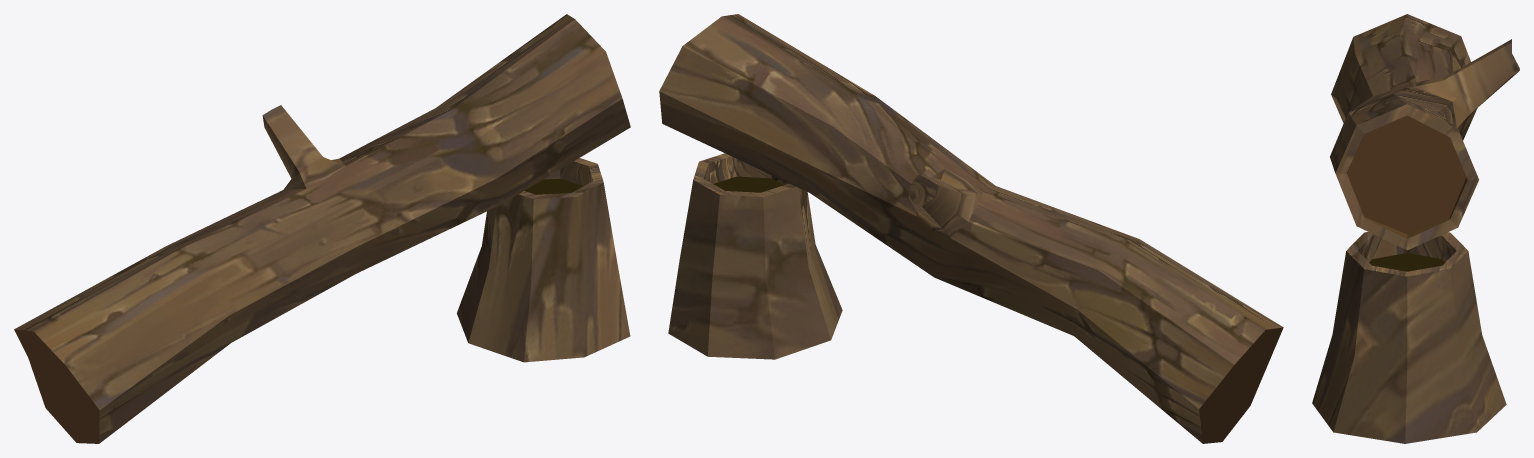
File: Tronco Apoiado.fbx
3 renders of one model, left to right at view 1: azimuth 30°, elevation 25°; view 2: azimuth 150°, elevation 25°; view 3: azimuth 270°, elevation 25°, orthographic. The views are drawn at different scales.
Parts seen in each view (by area): view 1: pCylinder3; view 2: pCylinder3; view 3: pCylinder3.
Boxes of the visible parts, left/top/right/bottom form: pCylinder3: left=14, top=14, right=630, bottom=443; pCylinder3: left=659, top=14, right=1283, bottom=443; pCylinder3: left=1312, top=14, right=1519, bottom=443.
Size of the model in its own units: 11.45 by 5.64 by 3.29.
Materials: 5 (2 with a texture image).
